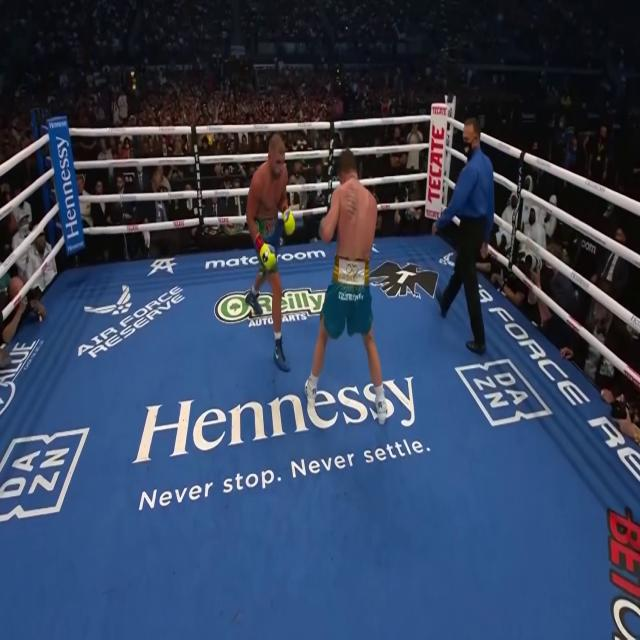boxer_1: (256, 133, 287, 220)
boxer_2: (337, 150, 378, 262)
gloves_1: (255, 229, 277, 271), (283, 207, 295, 234)
